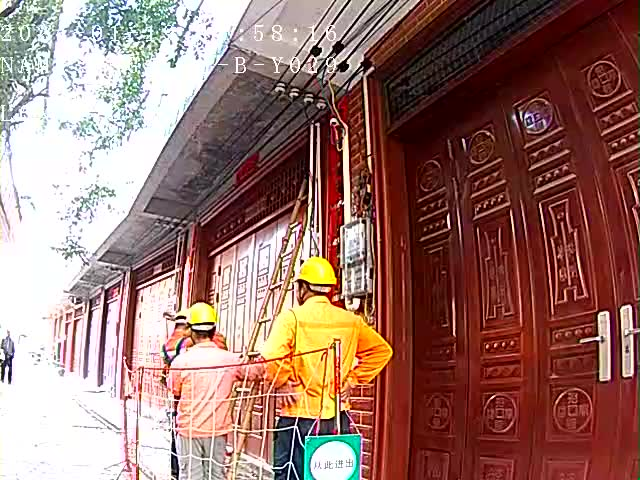halt: (298, 260, 341, 305), (187, 304, 222, 348)
